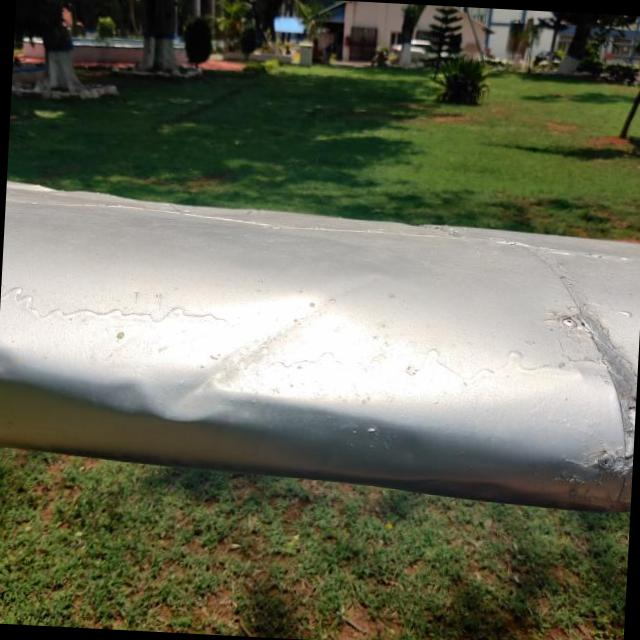Dent: (84, 267, 365, 473)
